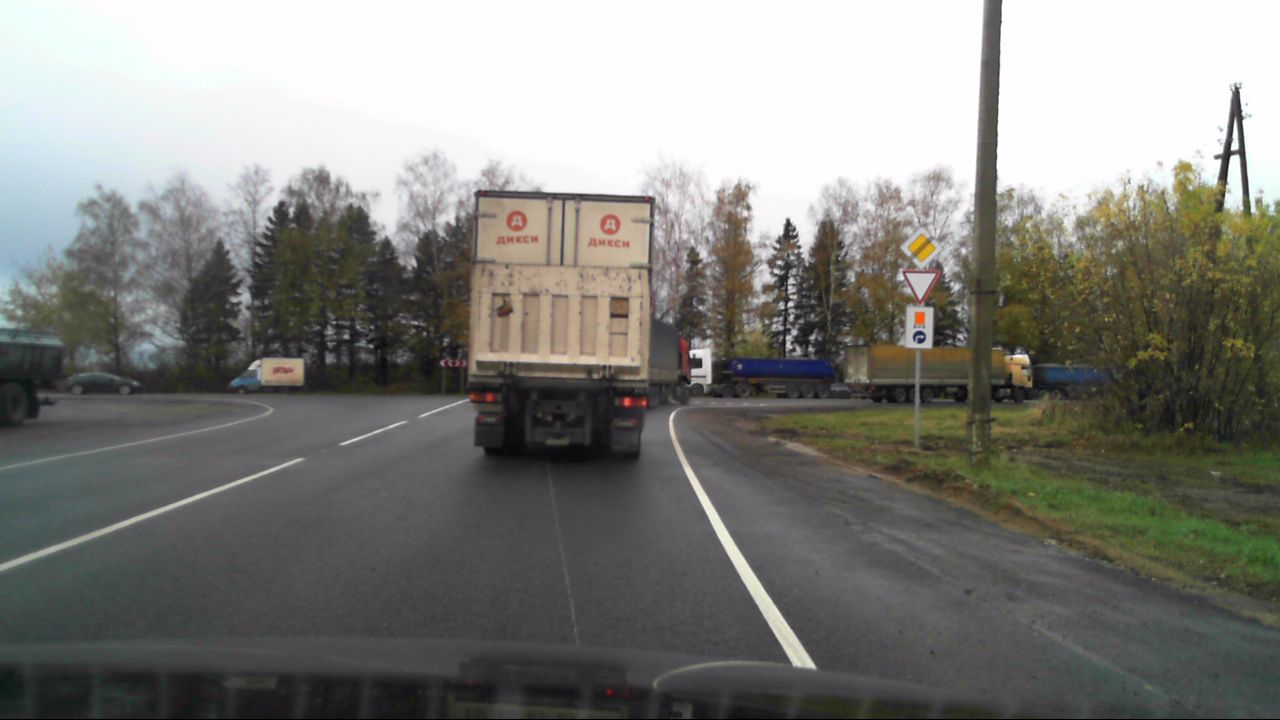main road: (900, 228, 940, 270)
